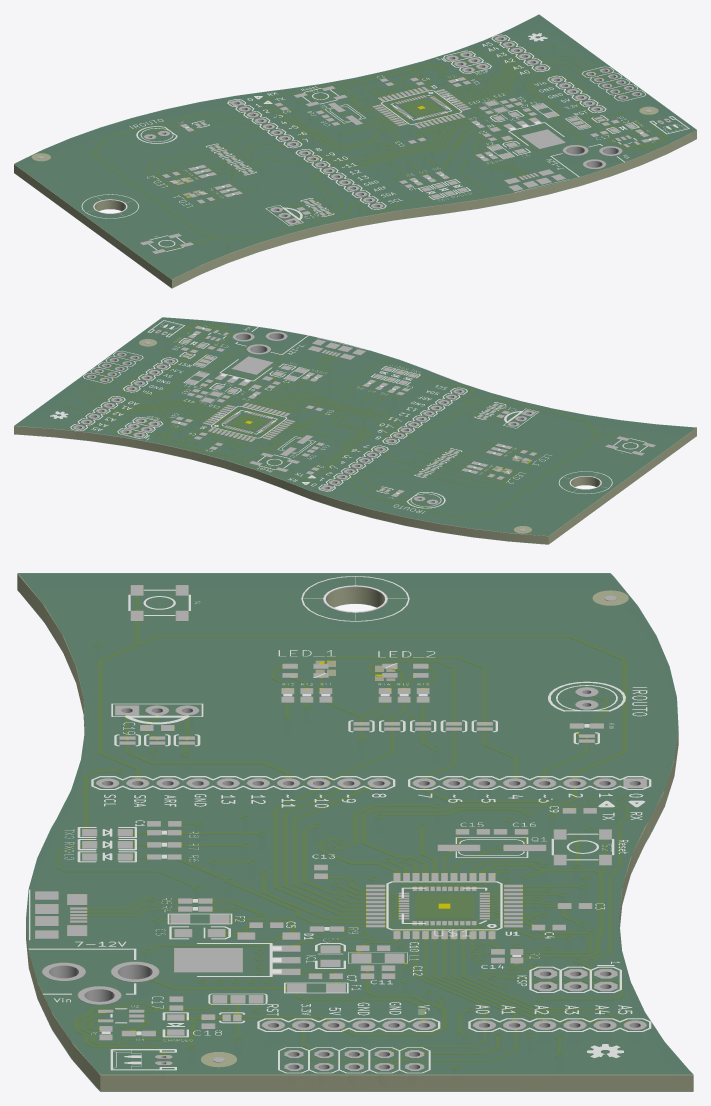
The model's file is tilda-mke.glb.
3 renders of one model, top to bottom at view 1: azimuth 30°, elevation 25°; view 2: azimuth 150°, elevation 25°; view 3: azimuth 270°, elevation 25°, orthographic. The views are drawn at different scales.
Visible parts, largest first — view 1: =>[0:1:1:7], =>[0:1:1:9], =>[0:1:1:2], =>[0:1:1:5]; view 2: =>[0:1:1:7], =>[0:1:1:9], =>[0:1:1:2], =>[0:1:1:5]; view 3: =>[0:1:1:7], =>[0:1:1:9], =>[0:1:1:2], =>[0:1:1:5].
Part boxes in pixels (x1,y1,x2,y2): =>[0:1:1:7]: (14, 14, 696, 288); =>[0:1:1:9]: (14, 15, 696, 288); =>[0:1:1:2]: (38, 36, 670, 253); =>[0:1:1:5]: (81, 33, 689, 251); =>[0:1:1:7]: (14, 317, 696, 544); =>[0:1:1:9]: (14, 318, 696, 544); =>[0:1:1:2]: (65, 323, 655, 531); =>[0:1:1:5]: (50, 320, 647, 513); =>[0:1:1:7]: (17, 573, 693, 1091); =>[0:1:1:9]: (17, 573, 693, 1091); =>[0:1:1:2]: (35, 585, 646, 1070); =>[0:1:1:5]: (28, 576, 651, 1073).
Size of the model in its own units: 0.1 by 0.00166 by 0.057.
4 materials, 4 textured.
